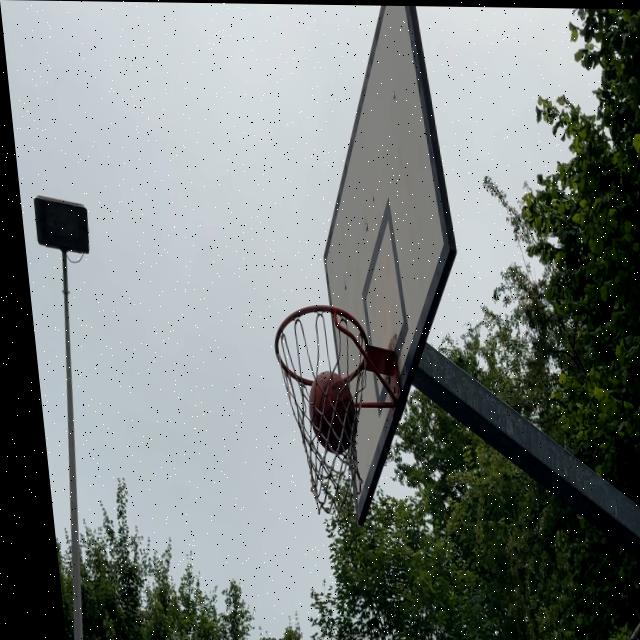Goal: (306, 371, 360, 452)
